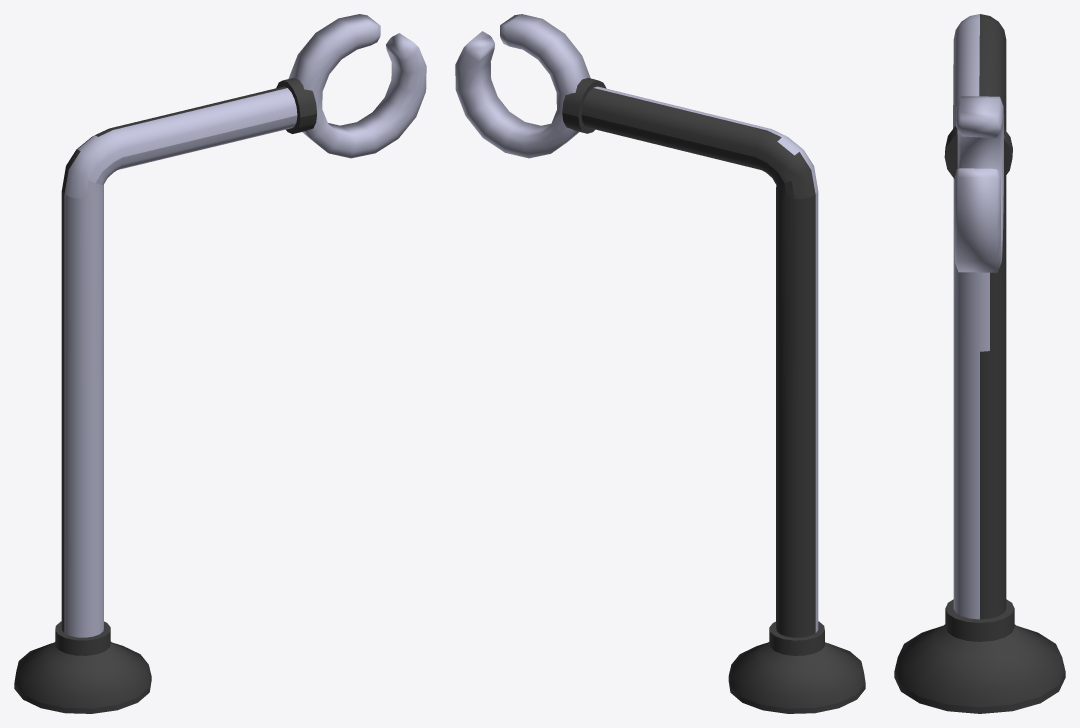
The model's file is Prototype_TetherHook.fbx.
3 renders of one model, left to right at view 1: azimuth 30°, elevation 25°; view 2: azimuth 150°, elevation 25°; view 3: azimuth 270°, elevation 25°, orthographic. The views are drawn at different scales.
Parts seen in each view (by area): view 1: Tether_Post, Tether_Hook; view 2: Tether_Post, Tether_Hook; view 3: Tether_Post, Tether_Hook.
Boxes of the visible parts, x1,y1,x2,y2 form: Tether_Post: (14, 78, 316, 713); Tether_Hook: (288, 14, 426, 158); Tether_Post: (562, 78, 865, 713); Tether_Hook: (455, 14, 590, 158); Tether_Post: (894, 14, 1065, 713); Tether_Hook: (954, 96, 1004, 272).
Bounding box in the file's own units: 4914 × 7088 × 1489.
